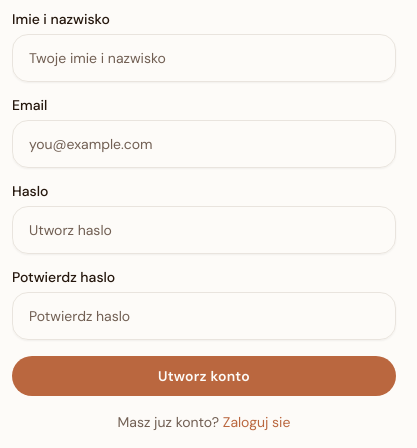
Test: SignUpForm › shows loading state during submission
Type "Jan Kowalski" into the field labelled "Imie i nazwisko". click: (204, 58)
box: [12,34,396,82]
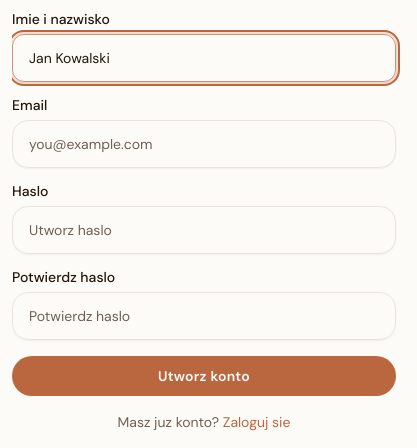
Type "jan@example.com" into the field labelled "Email". click: (204, 144)
box: [12,120,396,168]
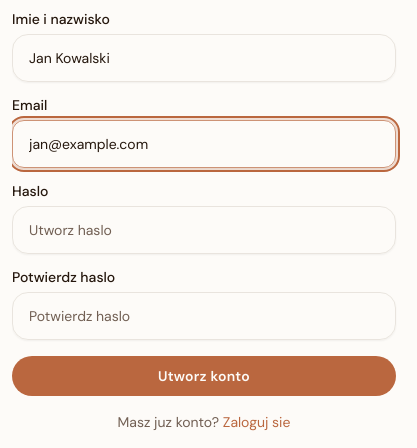
Type "password123" into the password field labelled "Haslo". click: (204, 230)
box: [12,206,396,254]
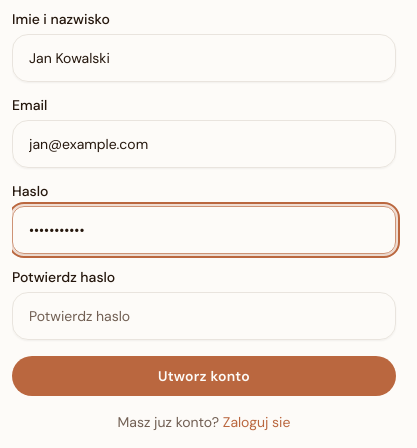
Type "password123" into the password field labelled "Potwierdz haslo". click: (204, 316)
box: [12,292,396,340]
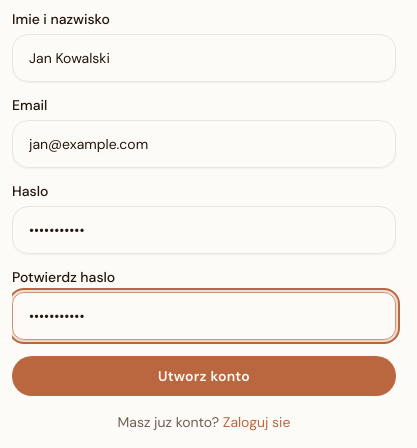
Click the button "Utworz konto". click: (204, 376)
box: [12,356,396,396]
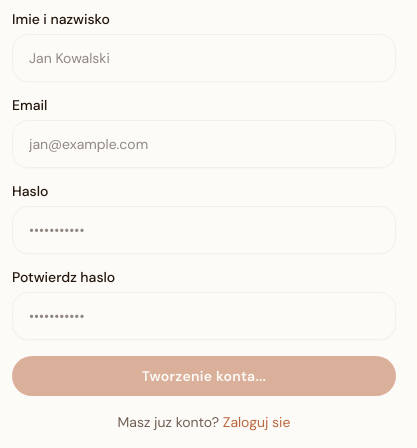
Check: the button "Tworzenie konta..." is disabled, box [12,356,396,396]
